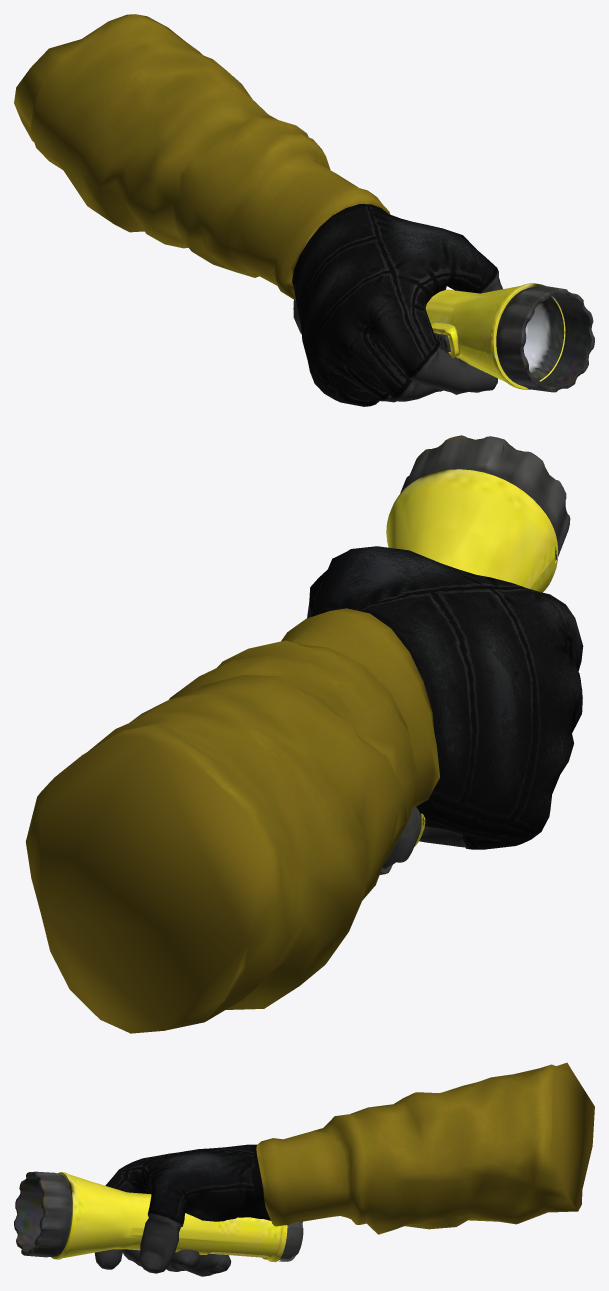
The model's file is fp-arm.glb.
3 views of the same model, one above another, from view 1: azimuth 30°, elevation 25°; view 2: azimuth 150°, elevation 25°; view 3: azimuth 270°, elevation 25° (orthographic). The views are drawn at different scales.
Visible parts, largest first — view 1: arm, flashlight_ref; view 2: arm, flashlight_ref; view 3: arm, flashlight_ref.
Boxes of the visible parts, <box> form: arm: <box>14,14,502,406</box>; flashlight_ref: <box>293,283,594,392</box>; arm: <box>25,546,583,1033</box>; flashlight_ref: <box>379,435,570,874</box>; arm: <box>94,1062,594,1276</box>; flashlight_ref: <box>14,1171,303,1262</box>.
Bounding box in the file's own units: 18.29 × 16.53 × 45.
2 materials, 2 textured.
